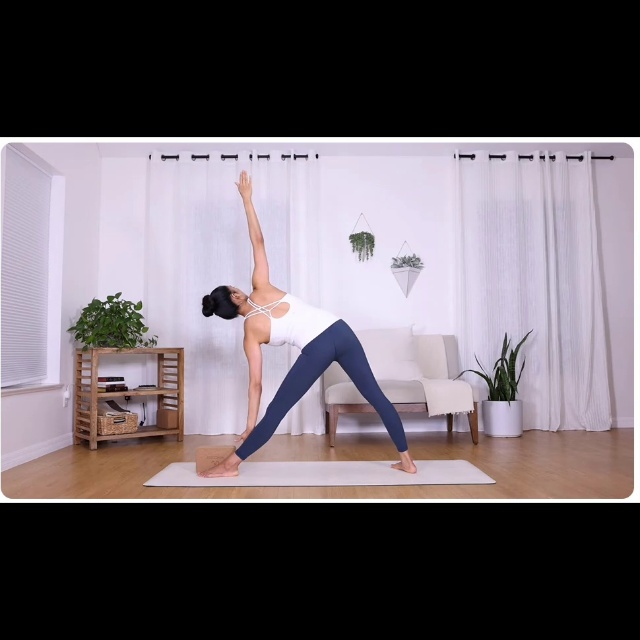Triangle_Pose: (191, 165, 429, 483)
